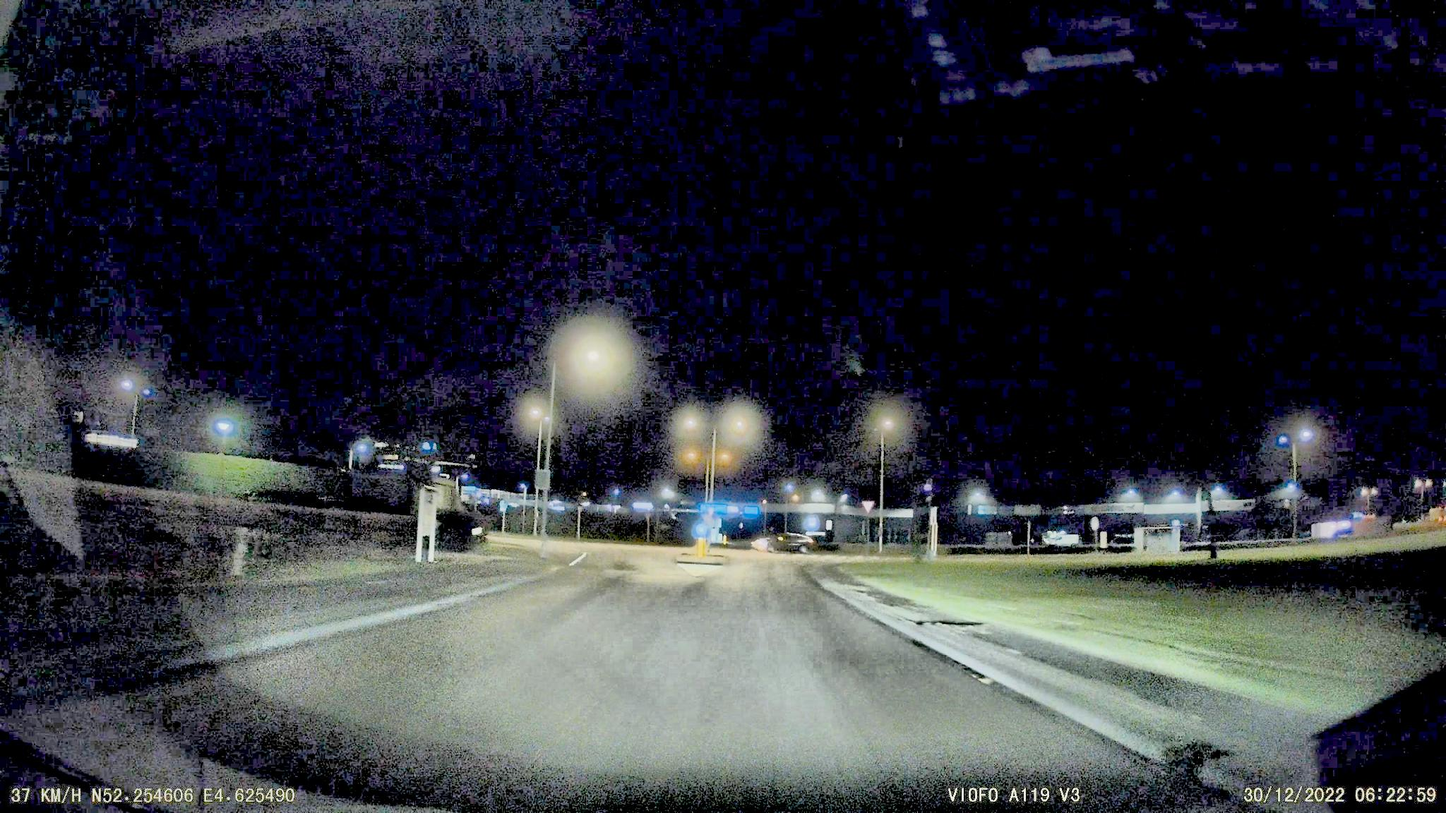Roads: (34, 546, 1147, 813)
